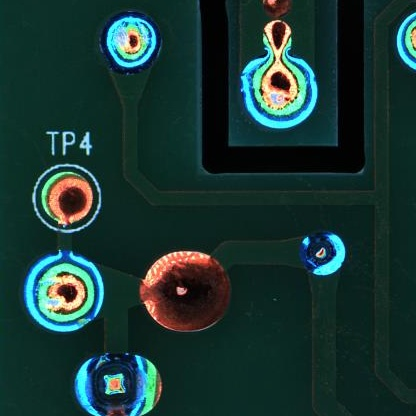spot: (70, 351, 165, 416), (245, 55, 317, 128), (32, 259, 97, 326), (101, 11, 160, 73), (40, 169, 93, 229), (299, 229, 347, 277)
